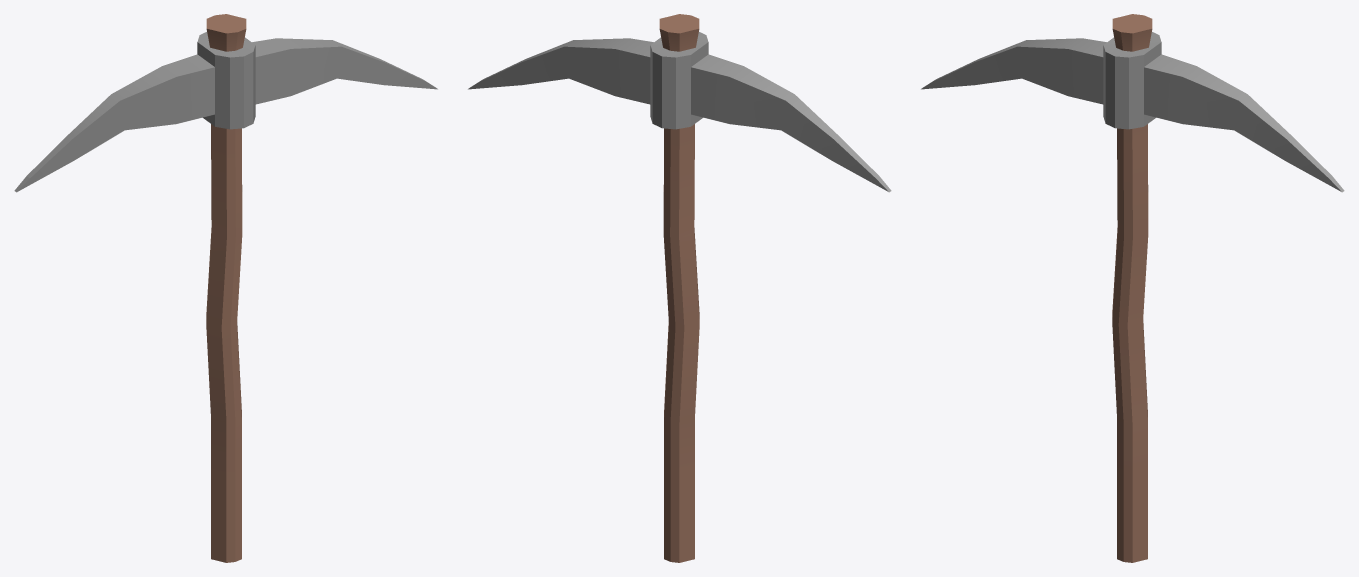
File: Picareta.fbx
The picture shows the model from 3 angles, left to right: view 1: azimuth 30°, elevation 25°; view 2: azimuth 150°, elevation 25°; view 3: azimuth 330°, elevation 25°; orthographic projection.
Parts seen in each view (by area): view 1: Picareta_MESH, Cabo_MESH; view 2: Picareta_MESH, Cabo_MESH; view 3: Picareta_MESH, Cabo_MESH.
Part boxes in pixels (x1,y1,x2,y2): Picareta_MESH: (14,32,437,192); Cabo_MESH: (206,14,246,562); Picareta_MESH: (468,32,891,192); Cabo_MESH: (659,14,699,562); Picareta_MESH: (921,32,1344,192); Cabo_MESH: (1112,14,1152,562).
Bounding box in the file's own units: 87.35 × 105 × 12.62.
